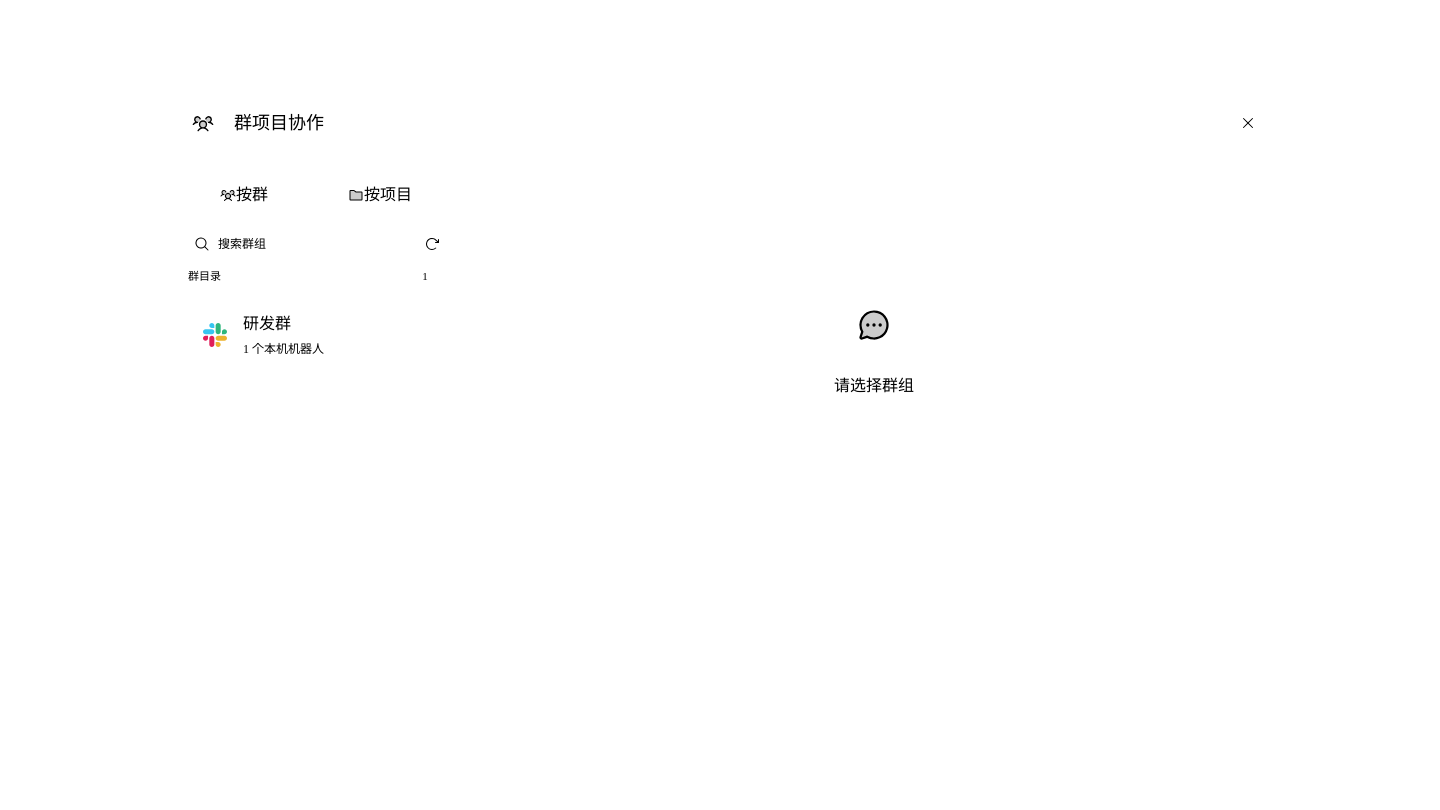
Test: shows group names with platform logos and exposes the selected group
Expected: the picture named "Slack" is shown, [203,322,227,346]
Click the button "研发群 1 个本机机器人". click: (307, 334)
box: [186,300,428,368]
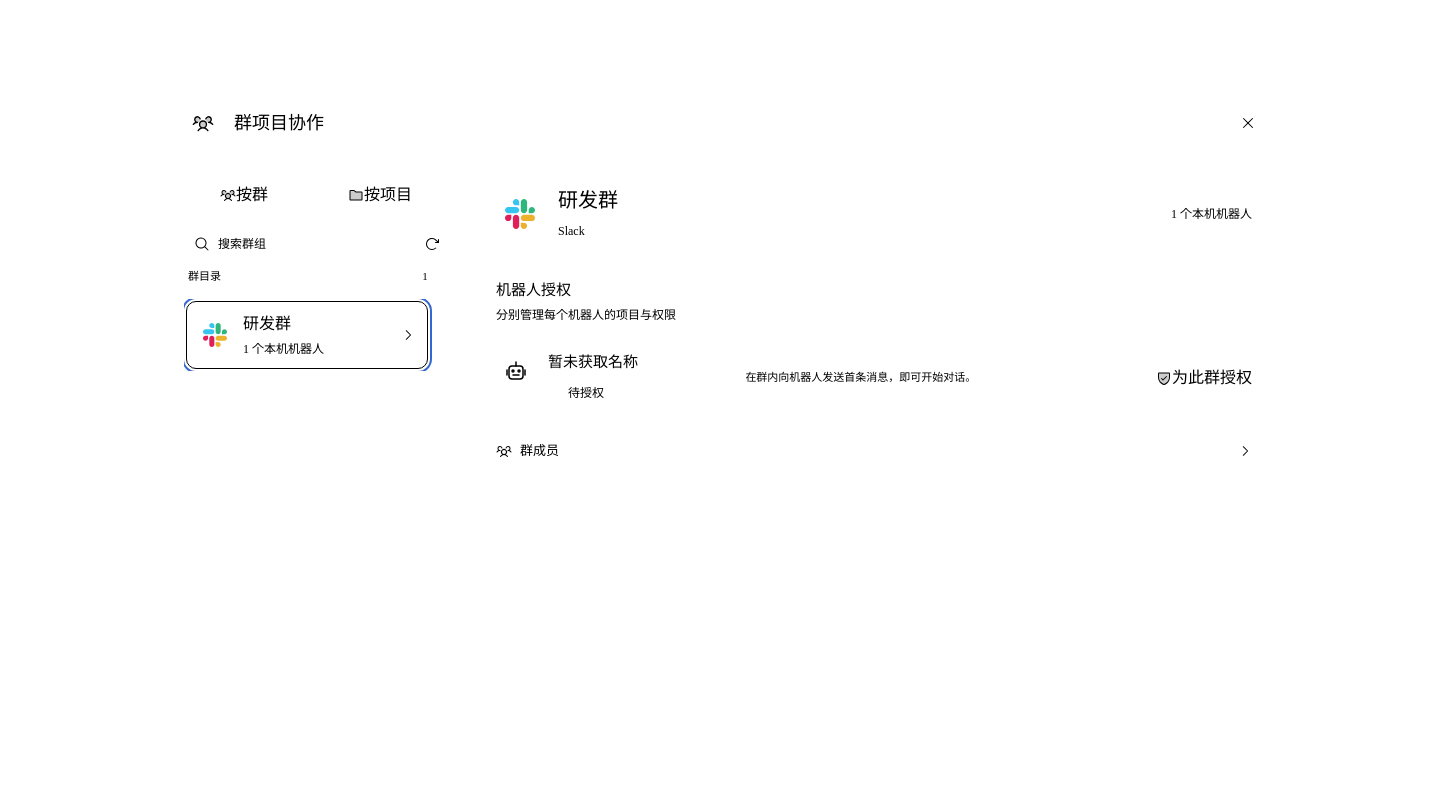
Expected: the heading "研发群" is shown, [558,189,618,211]
